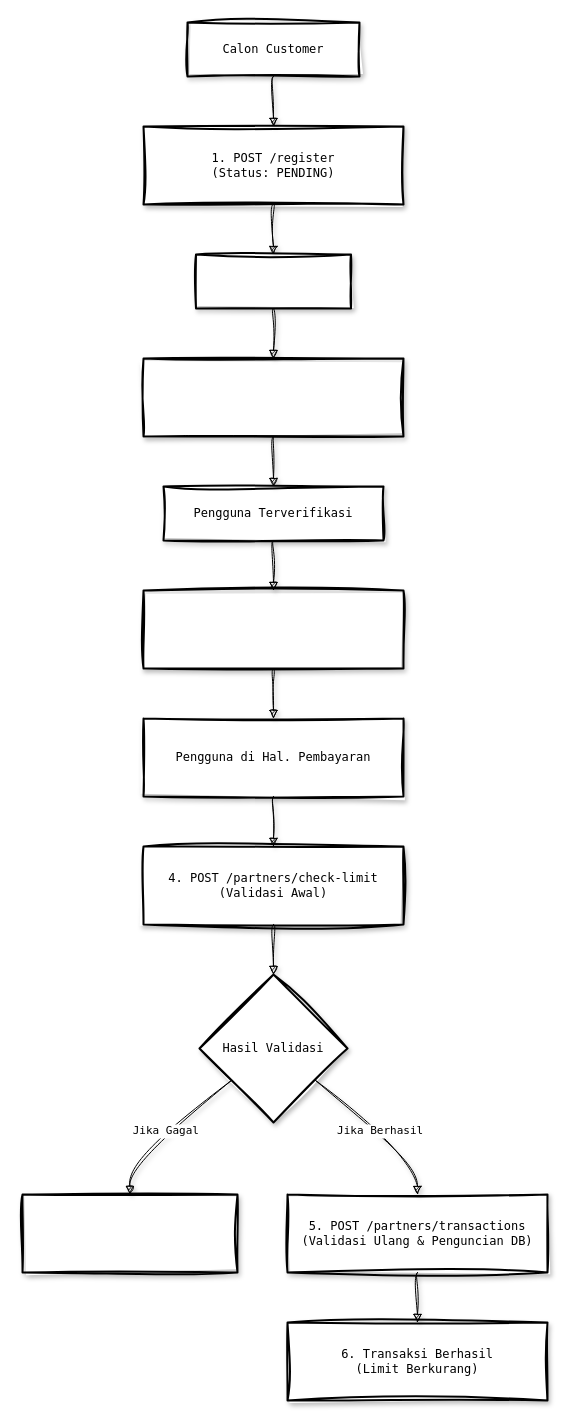
The diagram is 571 pixels wide and 1425 high, and some of its shapes have lost their labels. The shapes that lost their labels are listed below. From the top down, each one's centre as x and y in pixels, then its label:
At point 274,282: "Admin (POST /login)".
At point 274,398: "2. POST /verify & POST /limits (Status: VERIFIED, Limit Ditetapkan)".
At point 274,630: "3. POST /login (Mendapat Cookie JWT & CSRF Token)".
At point 130,1234: "Tampilkan Error Limit Proses Berhenti".
